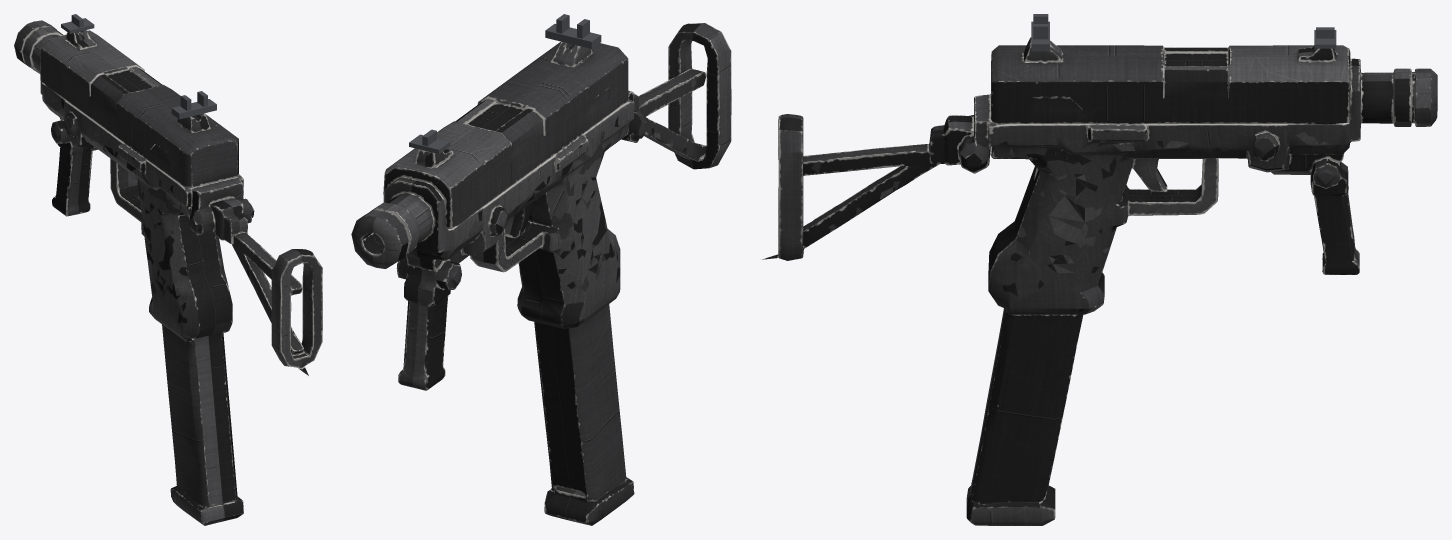
File: machine_pistol.glb
3 views of the same model, side by side, from view 1: azimuth 30°, elevation 25°; view 2: azimuth 150°, elevation 25°; view 3: azimuth 270°, elevation 25° (orthographic). The views are drawn at different scales.
Visible parts, largest first — view 1: machine_pistol_world, aw_part_machine_pistol_part_blued; view 2: machine_pistol_world, aw_part_machine_pistol_part_blued; view 3: machine_pistol_world, aw_part_machine_pistol_part_blued.
Boxes of the visible parts, left/top/right/bottom form: machine_pistol_world: left=14, top=20, right=322, bottom=525; aw_part_machine_pistol_part_blued: left=61, top=14, right=216, bottom=119; machine_pistol_world: left=351, top=23, right=731, bottom=525; aw_part_machine_pistol_part_blued: left=409, top=14, right=601, bottom=153; machine_pistol_world: left=762, top=37, right=1437, bottom=525; aw_part_machine_pistol_part_blued: left=1031, top=14, right=1336, bottom=51.
Bounding box in the file's own units: 0.0632 × 0.3502 × 0.4331.
Materials: 2 (1 with a texture image).
